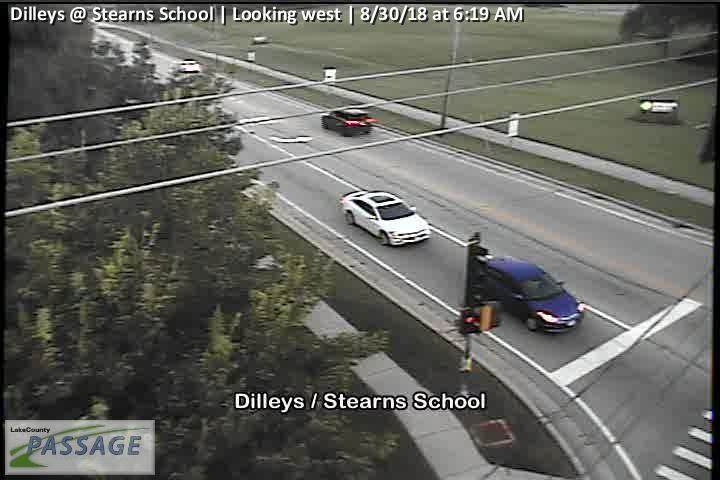SUV: (321, 106, 371, 138)
Sedan: (475, 254, 584, 335), (341, 190, 432, 248), (179, 60, 200, 72)
